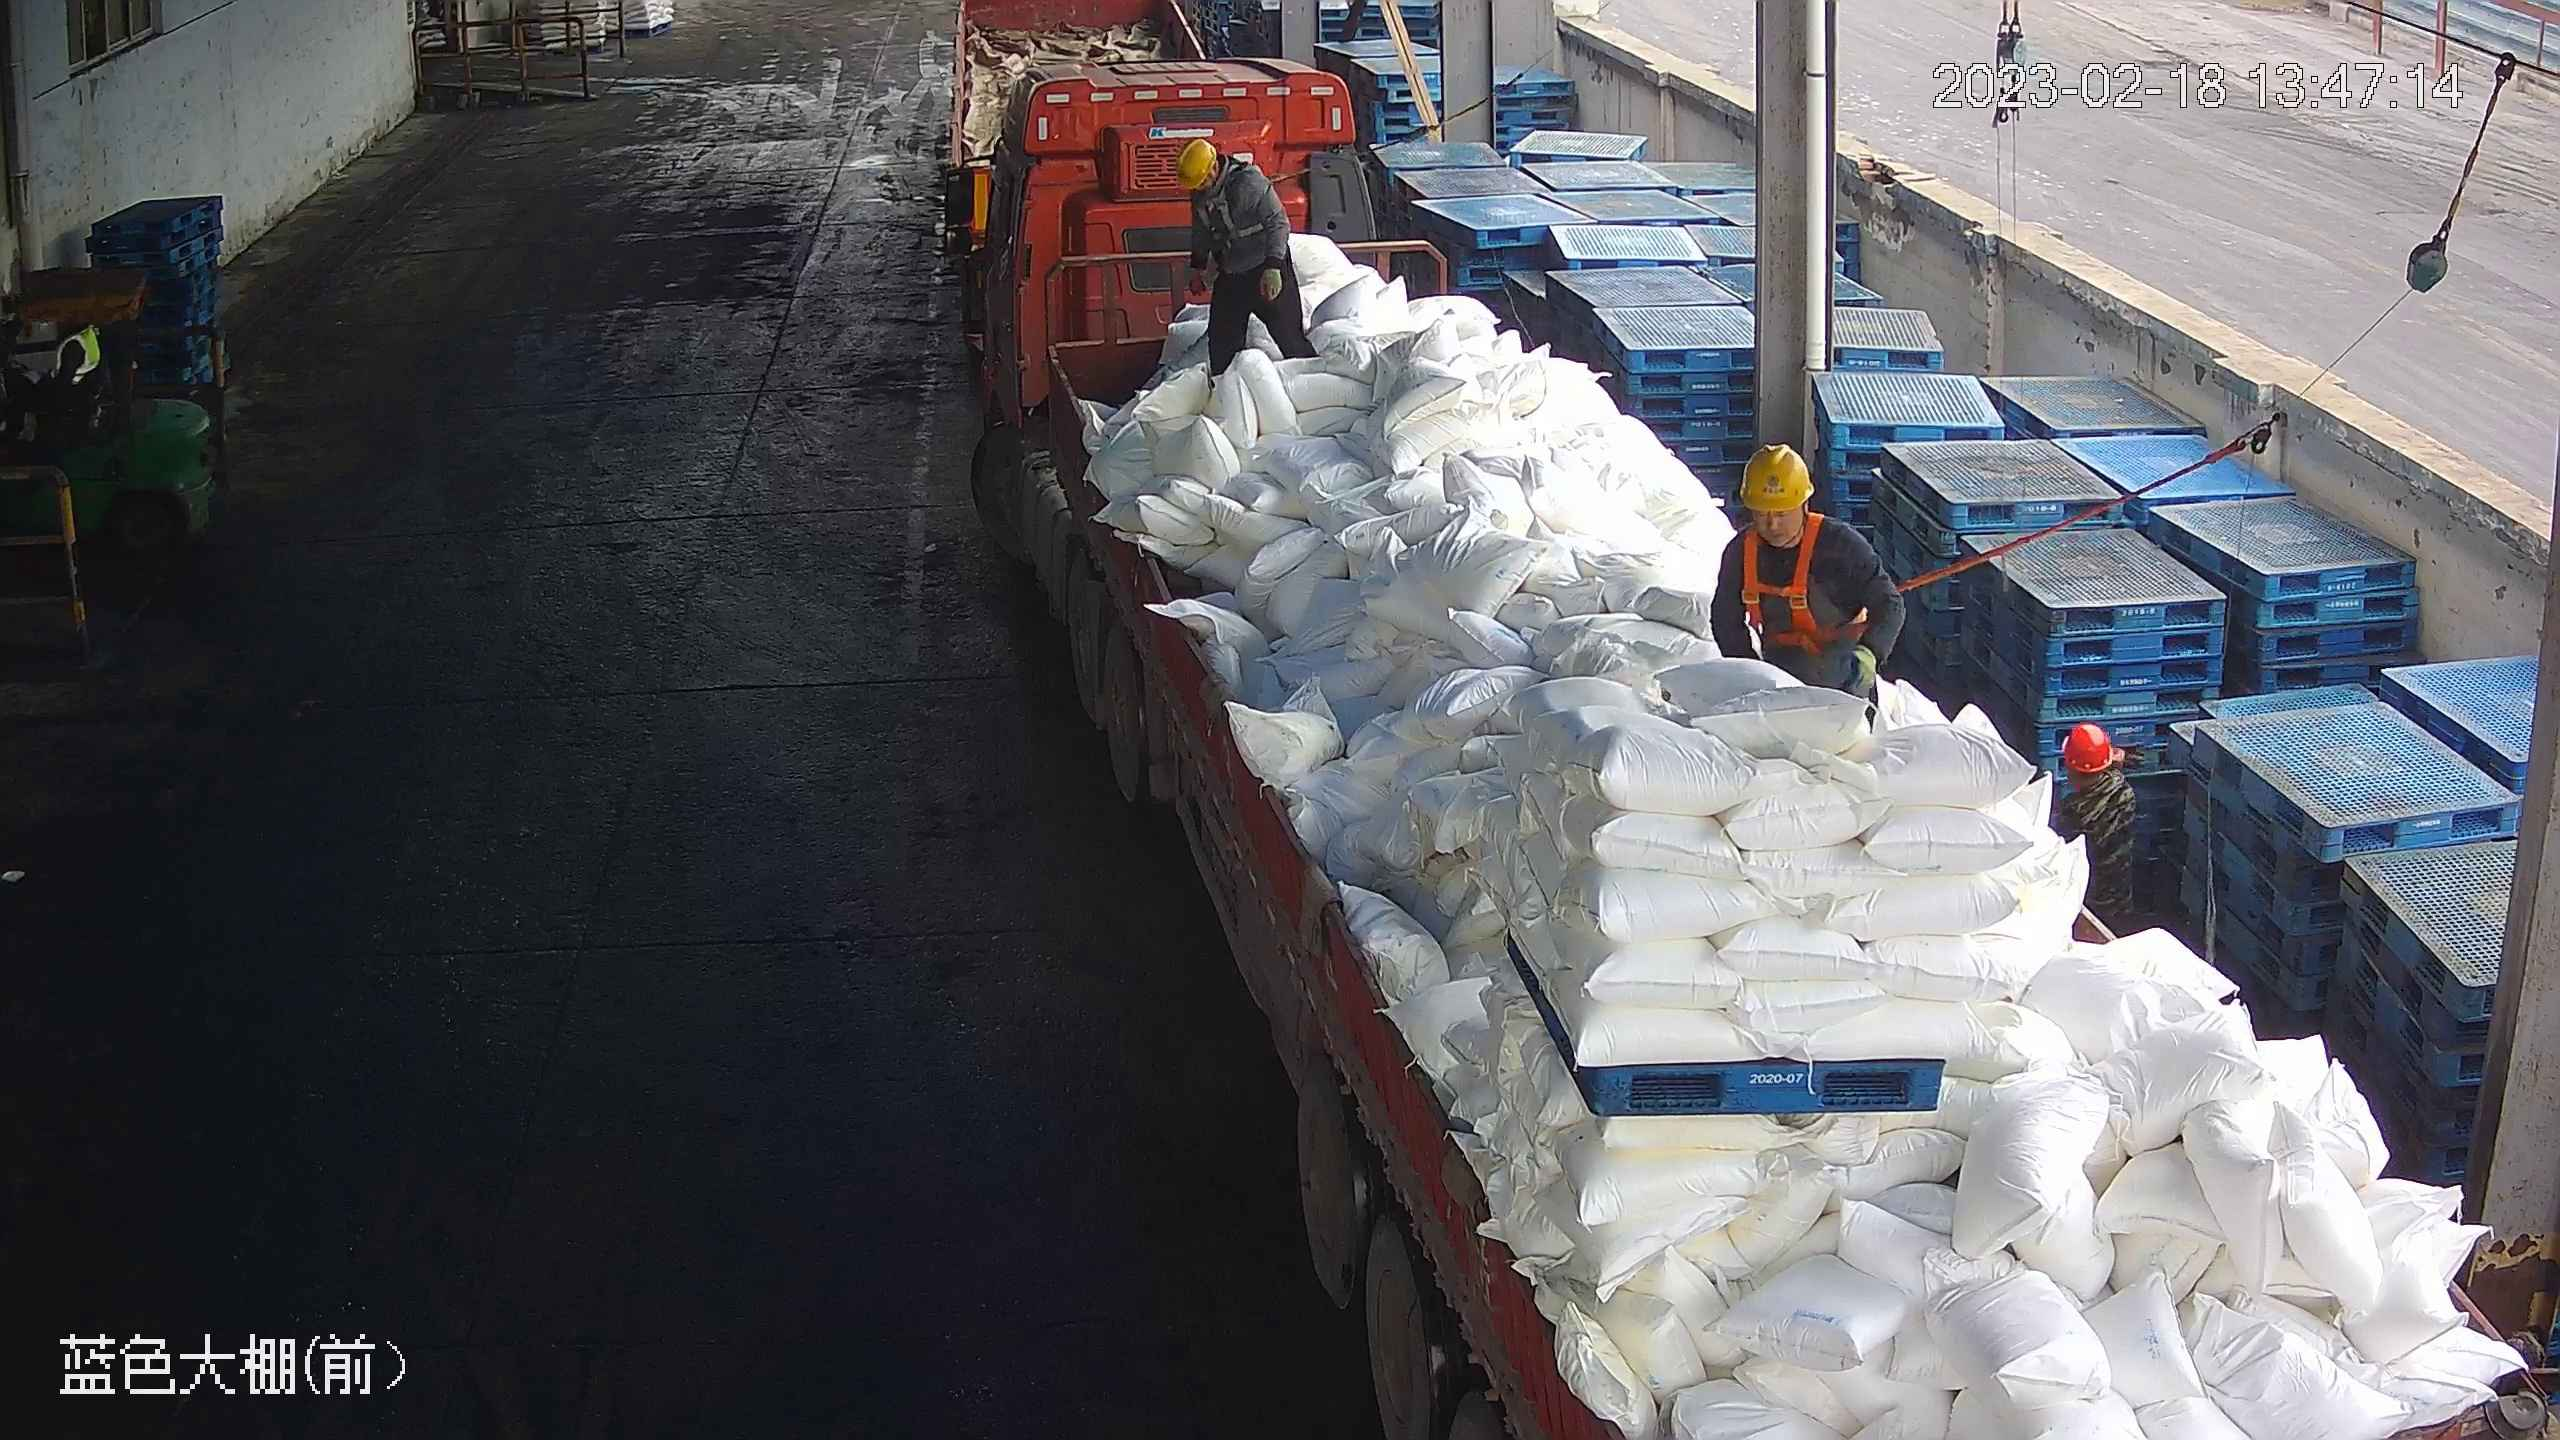belt: (1738, 516, 1857, 653), (1204, 146, 1266, 229), (2081, 766, 2136, 840)
head: (1717, 437, 1874, 589), (2056, 720, 2136, 817)
helmet: (1735, 439, 1816, 511), (2058, 721, 2118, 770), (1173, 132, 1219, 191)
people: (1704, 435, 1903, 717), (1170, 134, 1316, 388), (2051, 721, 2139, 936)
truck: (949, 112, 2556, 1438), (940, 1, 1244, 190)
